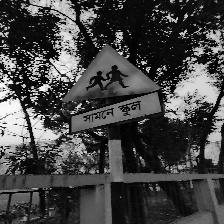School-in-front: (62, 44, 165, 134)
